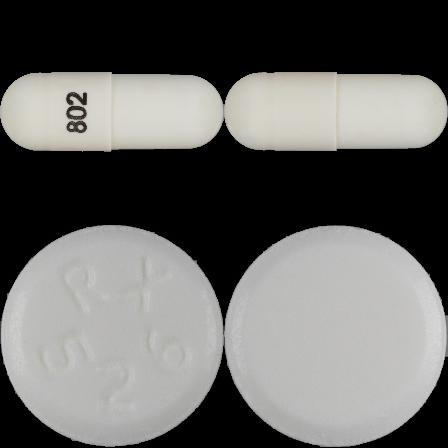51655-025: (0, 0, 224, 224)
